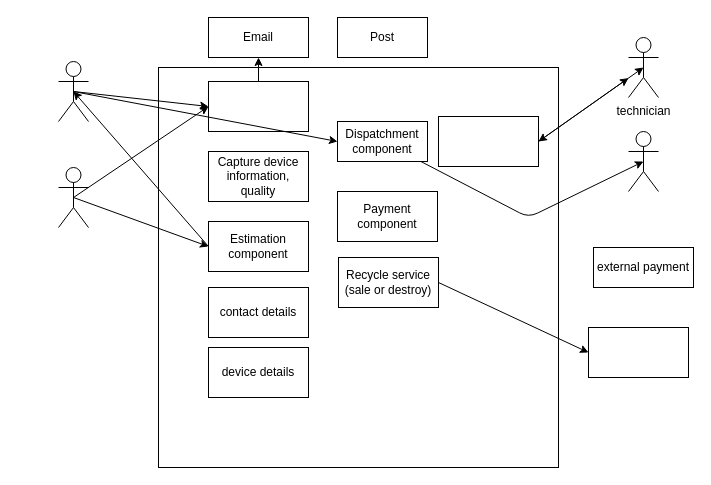
Some shapes in this 711 by 485 pixel diagram are drawn without their labels. The centre of each missing label's shape, as x and y in pixels:
assessment service: (x=488, y=141)
Customer: (x=73, y=91)
Ebay: (x=638, y=352)
Logistics worker: (x=643, y=161)
Salesperson in Kiosk: (x=73, y=197)
Web interface: (x=258, y=106)
